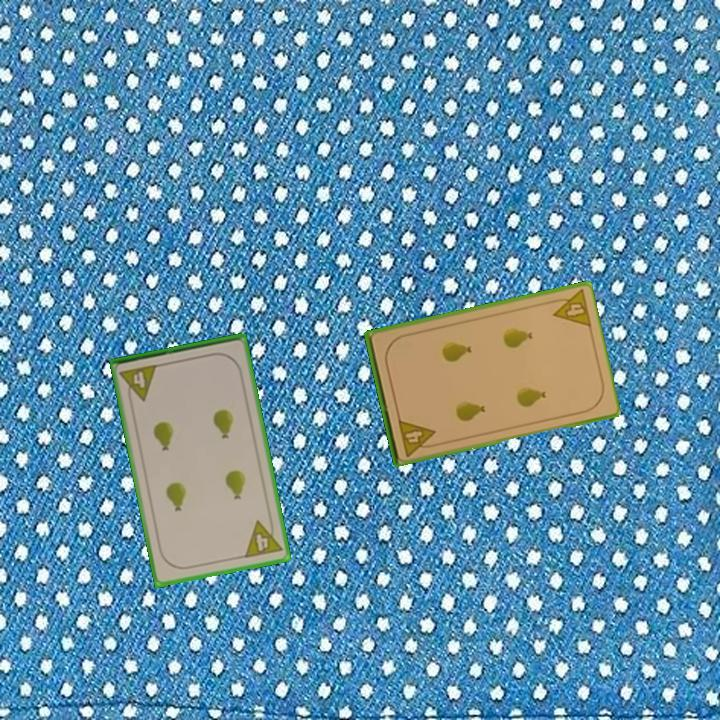4p: (545, 286, 594, 330), (241, 515, 285, 561), (116, 361, 160, 406), (395, 415, 440, 459)
